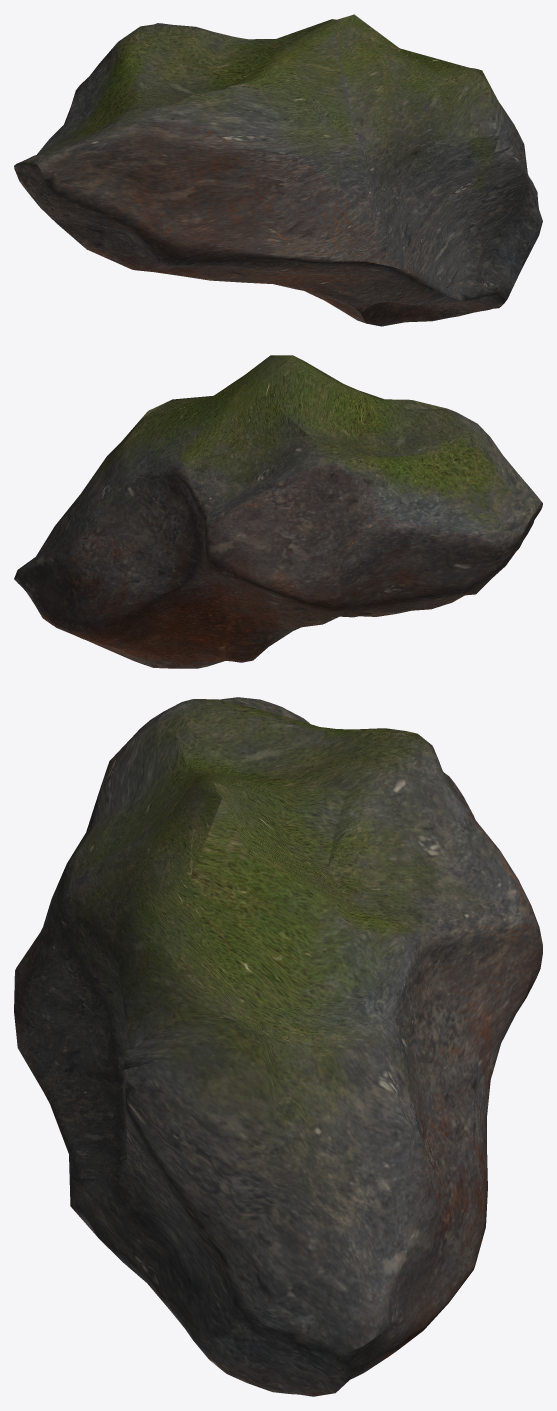
Rendered from Rock_2.fbx.
3 renders of one model, top to bottom at view 1: azimuth 30°, elevation 25°; view 2: azimuth 150°, elevation 25°; view 3: azimuth 270°, elevation 25°, orthographic. The views are drawn at different scales.
Parts seen in each view (by area): view 1: Rock_2_Baked; view 2: Rock_2_Baked; view 3: Rock_2_Baked.
Part boxes in pixels (x1,y1,x2,y2): Rock_2_Baked: (14, 14, 542, 326); Rock_2_Baked: (14, 355, 542, 668); Rock_2_Baked: (14, 697, 542, 1396).
Bounding box in the file's own units: 3.5 × 2.07 × 2.16.
1 material, 1 textured.
